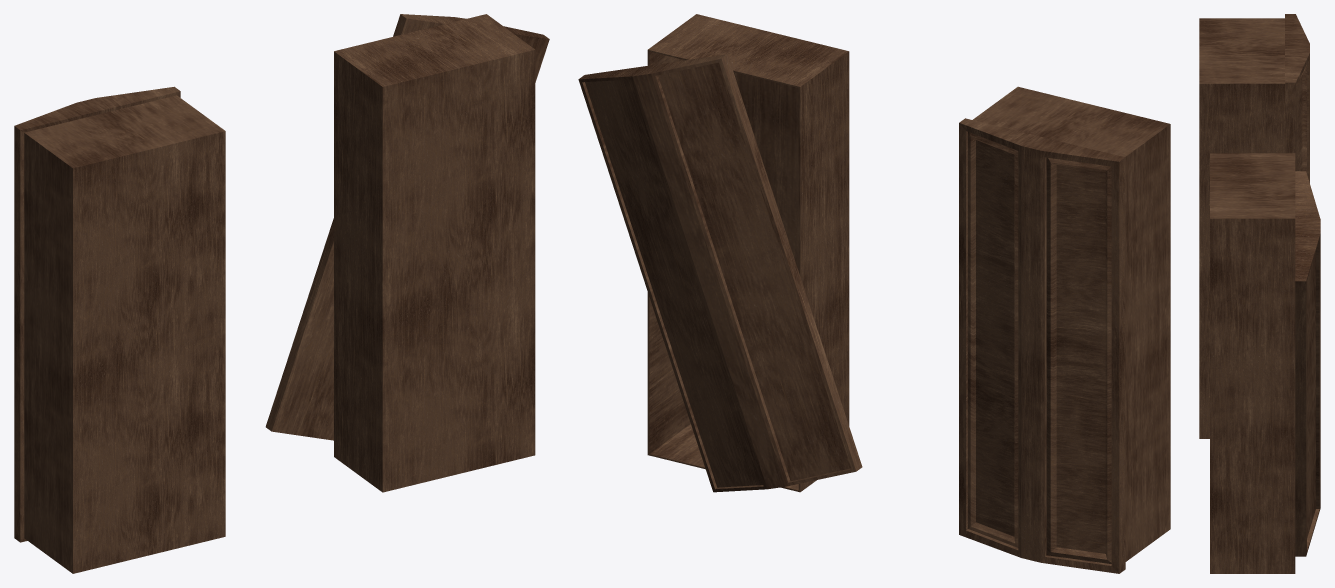
3 renders of one model, left to right at view 1: azimuth 30°, elevation 25°; view 2: azimuth 150°, elevation 25°; view 3: azimuth 270°, elevation 25°, orthographic. The views are drawn at different scales.
Visible parts, largest first — view 1: Coffin 4, Coffin 3; view 2: Coffin 4, Coffin 3; view 3: Coffin 4, Coffin 3.
Part boxes in pixels (x1,y1,x2,y2): Coffin 4: [265, 14, 549, 492]; Coffin 3: [14, 86, 225, 573]; Coffin 4: [578, 14, 862, 492]; Coffin 3: [959, 86, 1170, 573]; Coffin 4: [1210, 153, 1320, 573]; Coffin 3: [1199, 14, 1309, 438].
Size of the model in its own units: 2.76 by 2.15 by 0.6175.
2 materials, 2 textured.
